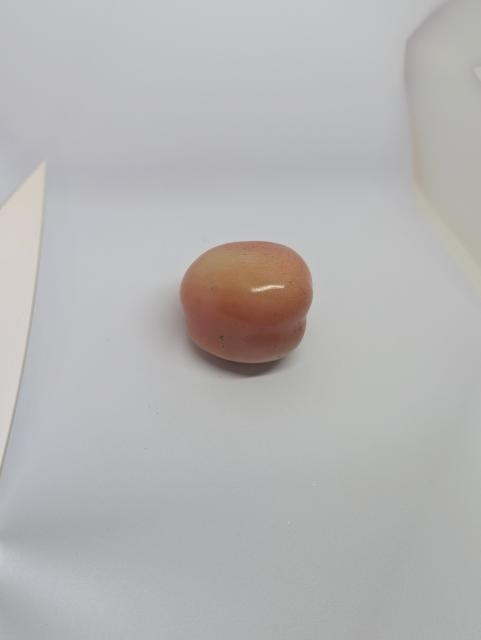turning: (172, 234, 327, 371)
